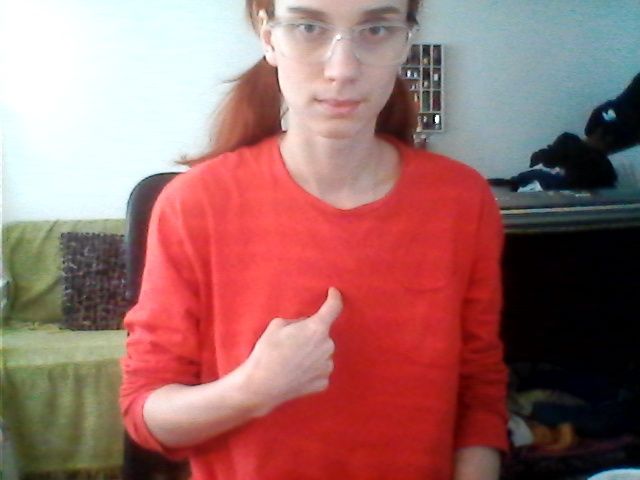ja: (246, 278, 372, 427)
